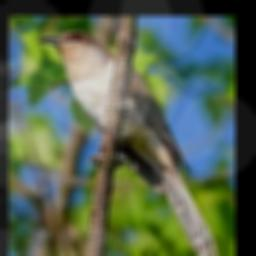Cuckoo: (40, 30, 218, 256)
